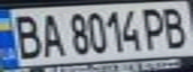0: (84, 8, 106, 55)
1: (103, 7, 124, 53)
4: (121, 6, 145, 52)
8: (63, 9, 90, 56)
A: (36, 10, 66, 58)
B: (6, 10, 45, 61), (157, 3, 193, 50)
P: (139, 4, 172, 52)
